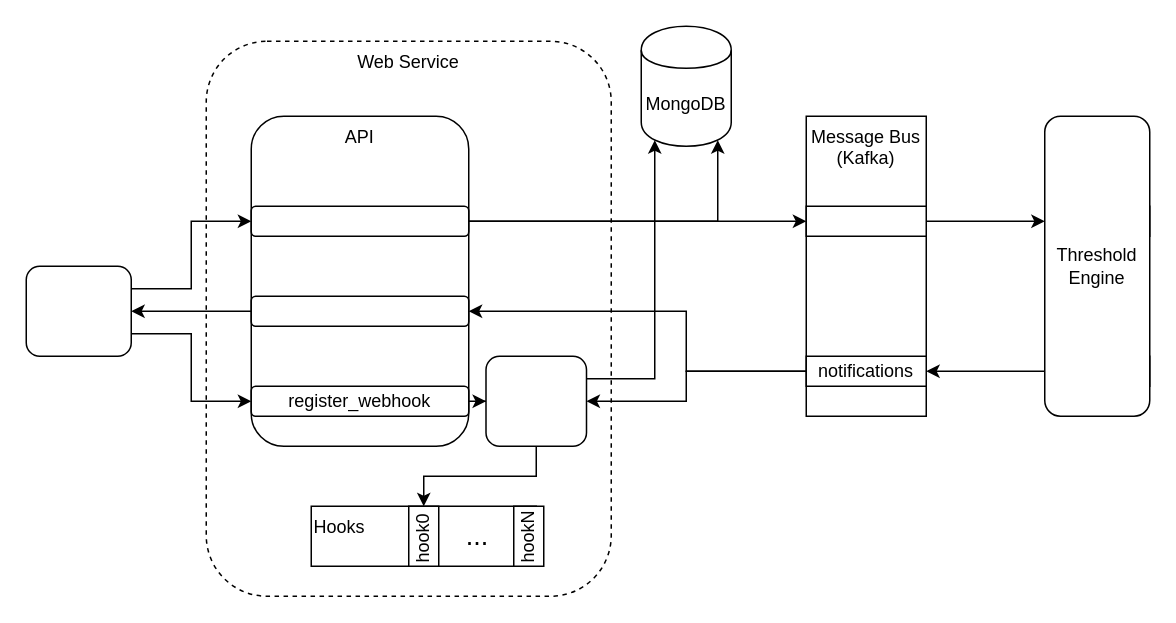
Image size: 1176x623. Some labels were removed from this diagram. Each missing label, with the centre of its shape:
"App" belongs at [78,310].
"notifications_websocket" belongs at [359,310].
"place_stake" belongs at [359,220].
"stakes" belongs at [865,220].
"Webhook Dispatcher" belongs at [535,400].
